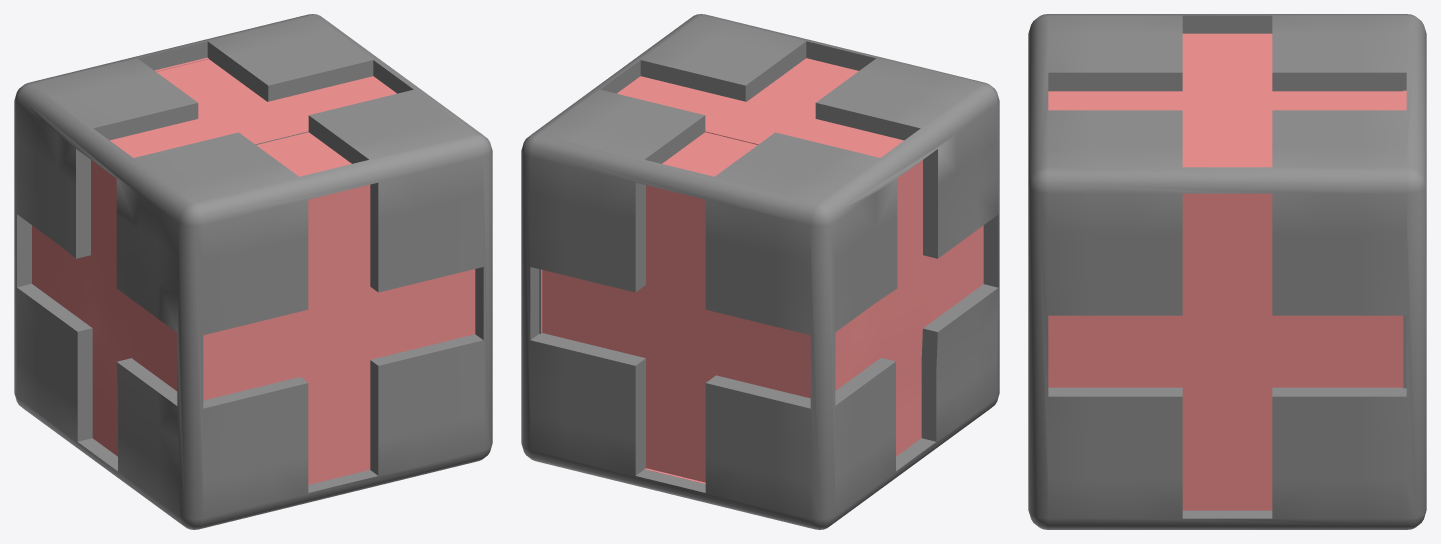
File: Target.fbx
3 renders of one model, left to right at view 1: azimuth 30°, elevation 25°; view 2: azimuth 150°, elevation 25°; view 3: azimuth 270°, elevation 25°, orthographic. The views are drawn at different scales.
Parts seen in each view (by area): view 1: ChamferBox001; view 2: ChamferBox001; view 3: ChamferBox001.
Boxes of the visible parts, box(x1,y1,x2,y2) form: ChamferBox001: box(14, 14, 492, 529); ChamferBox001: box(521, 14, 999, 529); ChamferBox001: box(1028, 14, 1426, 529).
Bounding box in the file's own units: 39.55 × 39.37 × 39.37.
